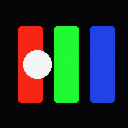2 circle: (23, 50, 51, 78)
